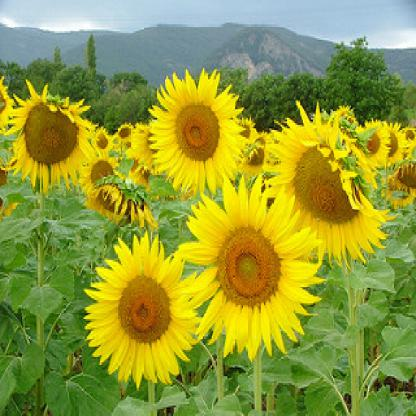SUN FLOWER: (6, 48, 411, 401)
